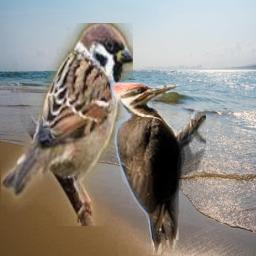Sparrow: (1, 23, 133, 226)
Woodpecker: (110, 82, 206, 255)
